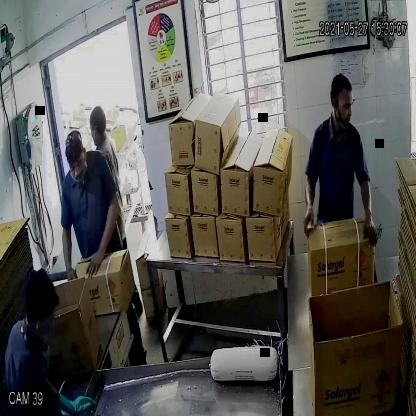no_goggles: (328, 93, 358, 118), (63, 154, 91, 177)
